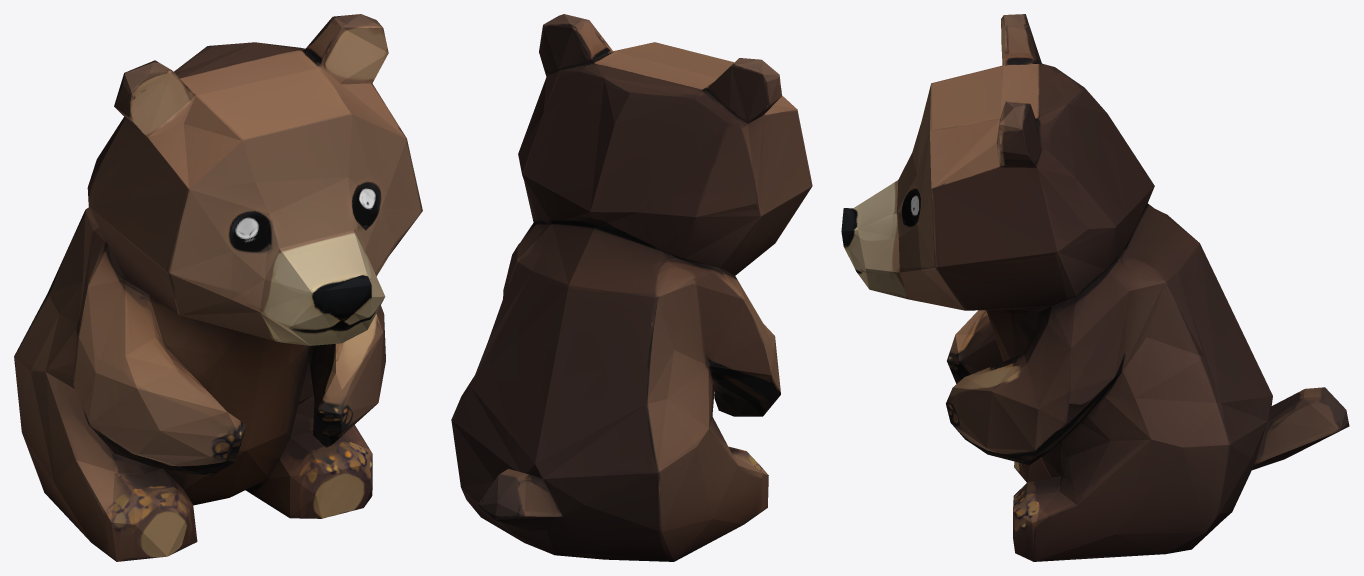
The picture shows the model from 3 angles, left to right: view 1: azimuth 30°, elevation 25°; view 2: azimuth 150°, elevation 25°; view 3: azimuth 270°, elevation 25°; orthographic projection. The views are drawn at different scales.
Parts seen in each view (by area): view 1: Figure; view 2: Figure; view 3: Figure.
Boxes of the visible parts, left/top/right/bottom form: Figure: left=14, top=14, right=422, bottom=561; Figure: left=451, top=14, right=812, bottom=561; Figure: left=841, top=14, right=1349, bottom=561.
Size of the model in its own units: 0.2599 by 0.4077 by 0.4225.
1 material, 1 textured.
